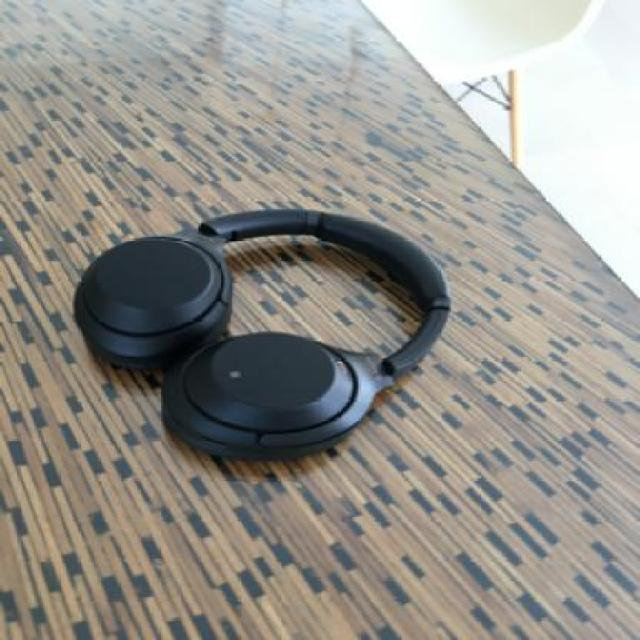earphone: (40, 148, 578, 544)
